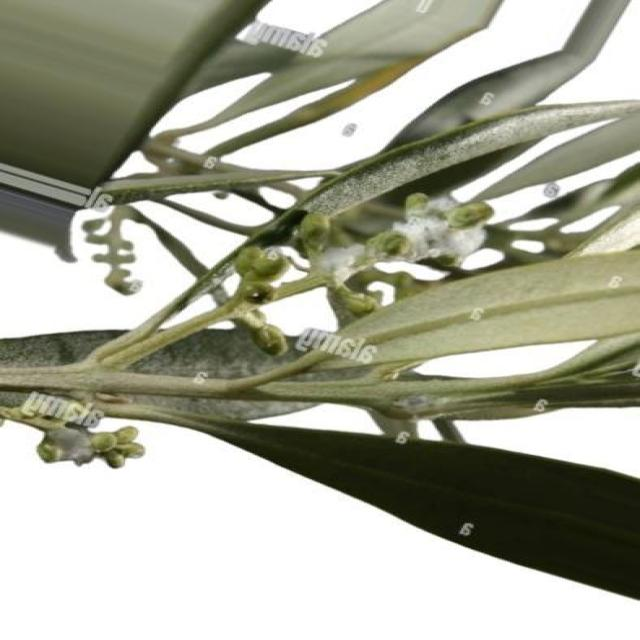Psyllid: (294, 193, 492, 315), (36, 424, 143, 468)
